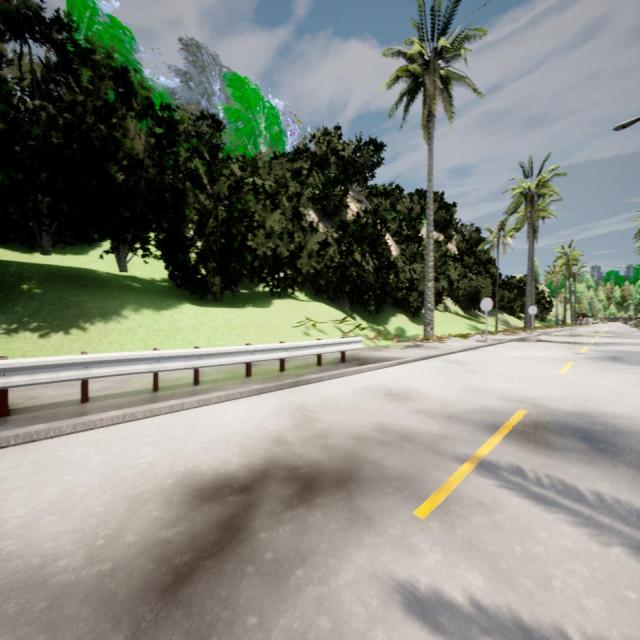Traffic_Signs: (479, 297, 494, 311), (528, 305, 537, 315)
